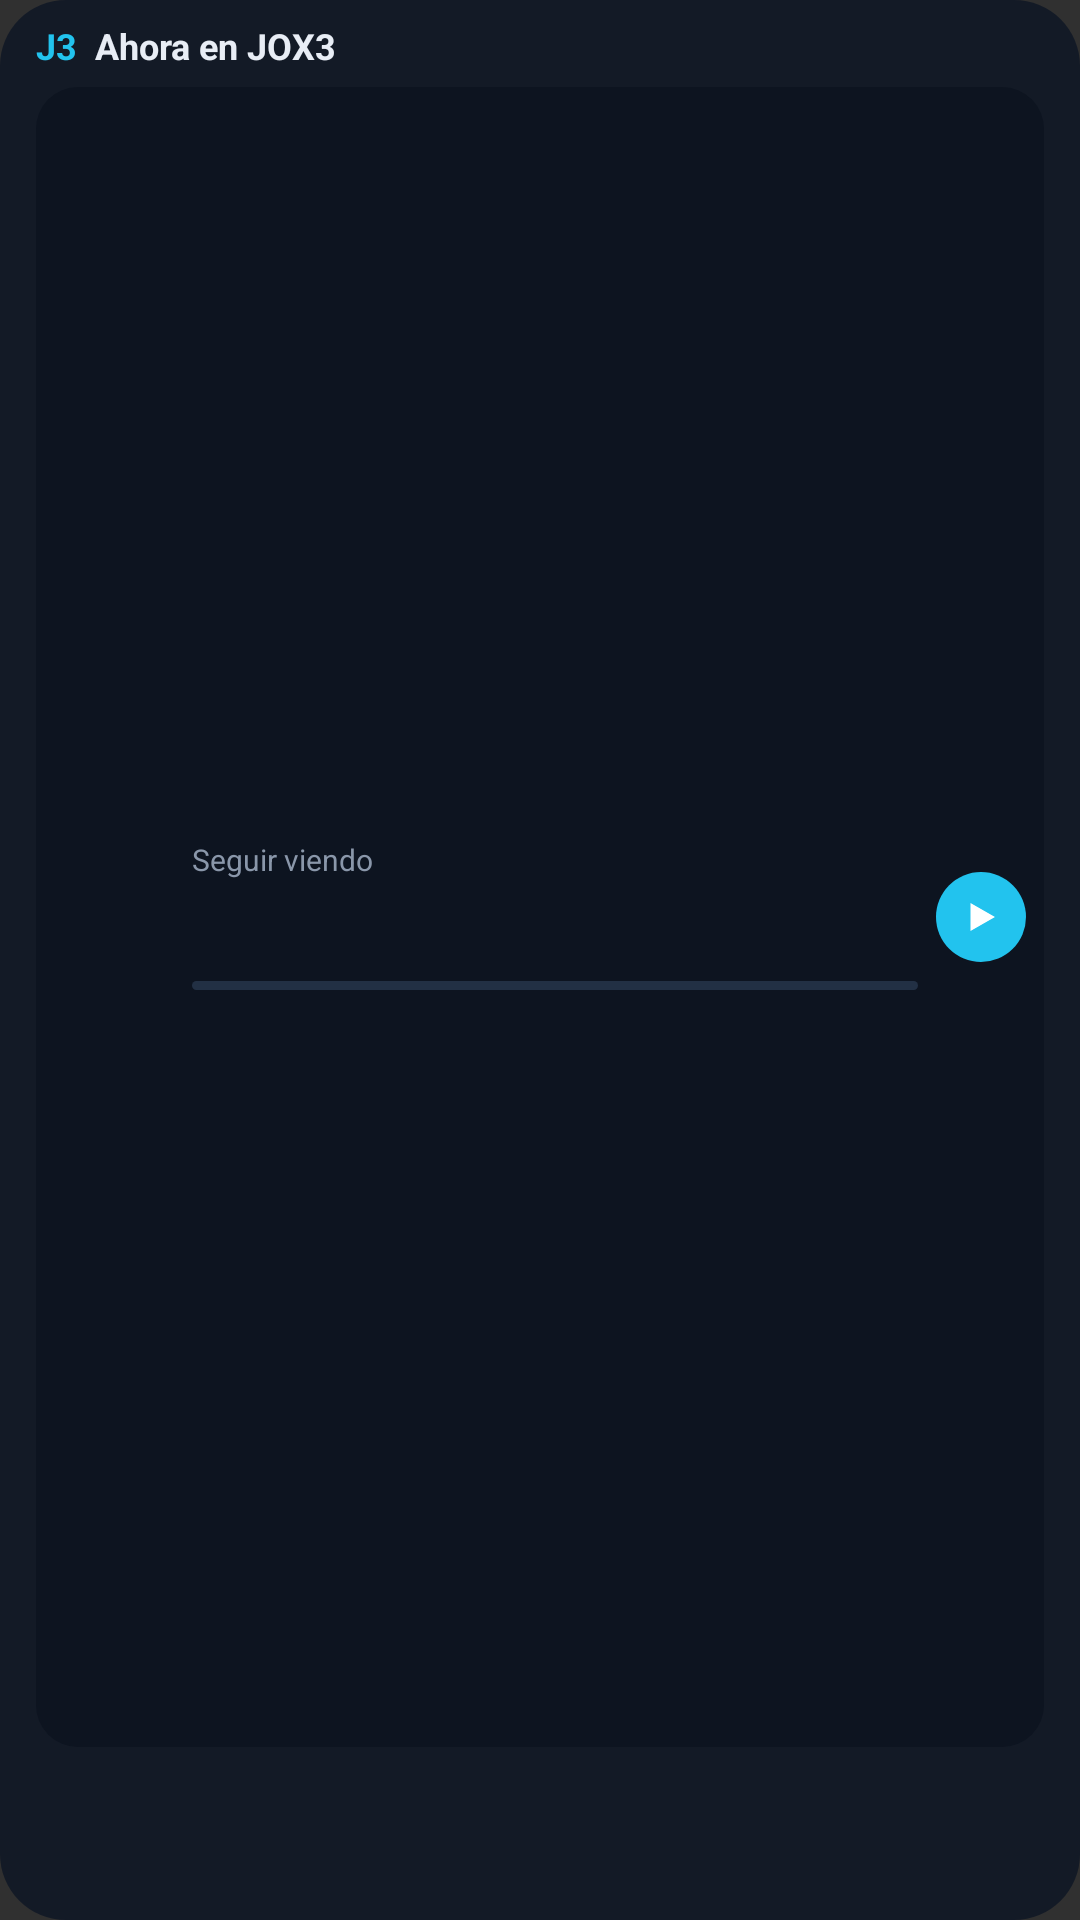

Icon bounding boxes for this 1080*1920 phone screenshot, format detection(x1, y1, x2, y2):
Seguir viendo: detection(936, 872, 1026, 962)
